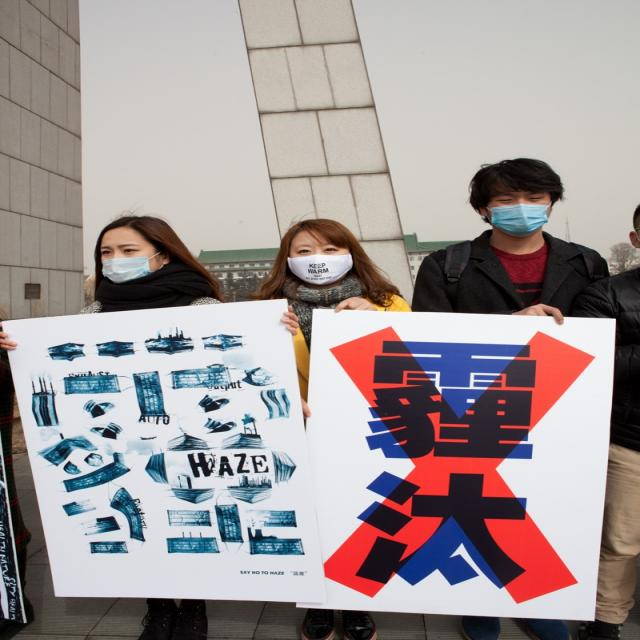mask: (288, 228, 355, 286), (98, 225, 152, 283), (492, 180, 546, 236)
